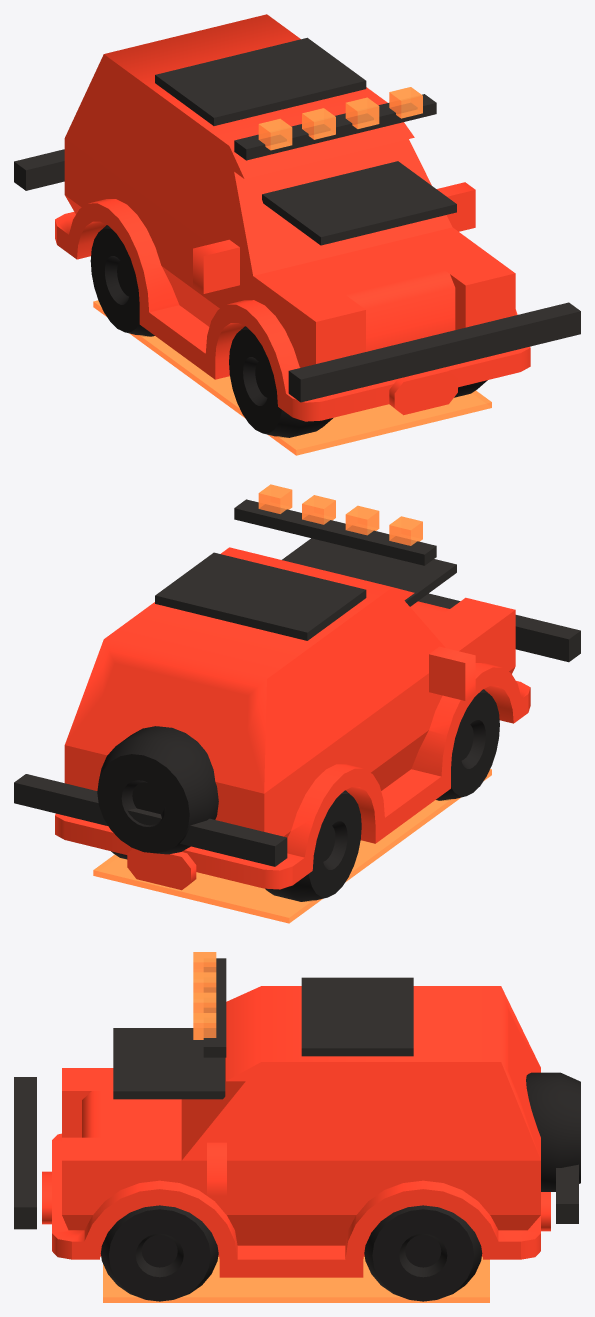
File: monster-cyber.glb
The picture shows the model from 3 angles, top to bottom: view 1: azimuth 30°, elevation 25°; view 2: azimuth 150°, elevation 25°; view 3: azimuth 270°, elevation 25°; orthographic projection. The views are drawn at different scales.
Visible parts, largest first — view 1: body, roof armor plate, front crash bar, hood armor plate, red belly glow, wheel-front-right, wheel-back-right, roof light rail, rear crash bar, roof lamp 1, roof lamp 3, roof lamp 2 (+1 smaller); view 2: body, wheel-back, roof armor plate, rear crash bar, red belly glow, hood armor plate, roof light rail, wheel-back-right, wheel-front-right, front crash bar, roof lamp 2, roof lamp 4 (+2 smaller); view 3: body, roof armor plate, wheel-back-left, wheel-front-left, hood armor plate, red belly glow, wheel-back, front crash bar, roof light rail, rear crash bar, roof lamp 4, roof lamp 2 (+2 smaller).
Part boxes in pixels (<box>): body: <box>55,14,530,421</box>; roof armor plate: <box>155,37,366,125</box>; front crash bar: <box>288,302,580,402</box>; hood armor plate: <box>262,161,456,245</box>; red belly glow: <box>93,300,491,455</box>; wheel-front-right: <box>229,326,332,437</box>; wheel-back-right: <box>90,225,154,336</box>; roof light rail: <box>234,94,436,160</box>; rear crash bar: <box>14,149,64,190</box>; roof lamp 1: <box>258,118,292,150</box>; roof lamp 3: <box>345,97,379,128</box>; roof lamp 2: <box>302,108,335,139</box>; body: <box>55,547,530,890</box>; wheel-back: <box>97,726,218,854</box>; roof armor plate: <box>155,552,366,640</box>; rear crash bar: <box>14,774,287,866</box>; red belly glow: <box>93,769,491,923</box>; hood armor plate: <box>282,538,456,606</box>; roof light rail: <box>234,499,436,565</box>; wheel-back-right: <box>265,790,361,901</box>; wheel-front-right: <box>436,689,499,800</box>; front crash bar: <box>418,593,580,662</box>; roof lamp 2: <box>345,505,379,535</box>; roof lamp 4: <box>258,484,292,513</box>; body: <box>42,986,550,1277</box>; roof armor plate: <box>301,977,413,1056</box>; wheel-back-left: <box>364,1205,482,1301</box>; wheel-front-left: <box>100,1205,218,1301</box>; hood armor plate: <box>113,1028,225,1099</box>; red belly glow: <box>103,1256,489,1302</box>; wheel-back: <box>526,1072,580,1191</box>; front crash bar: <box>14,1077,36,1229</box>; roof light rail: <box>203,958,226,1057</box>; rear crash bar: <box>556,1164,578,1223</box>; roof lamp 4: <box>193,1013,216,1039</box>; roof lamp 2: <box>193,972,216,992</box>.
Size of the model in its own units: 1.54 by 1.5 by 2.84.
